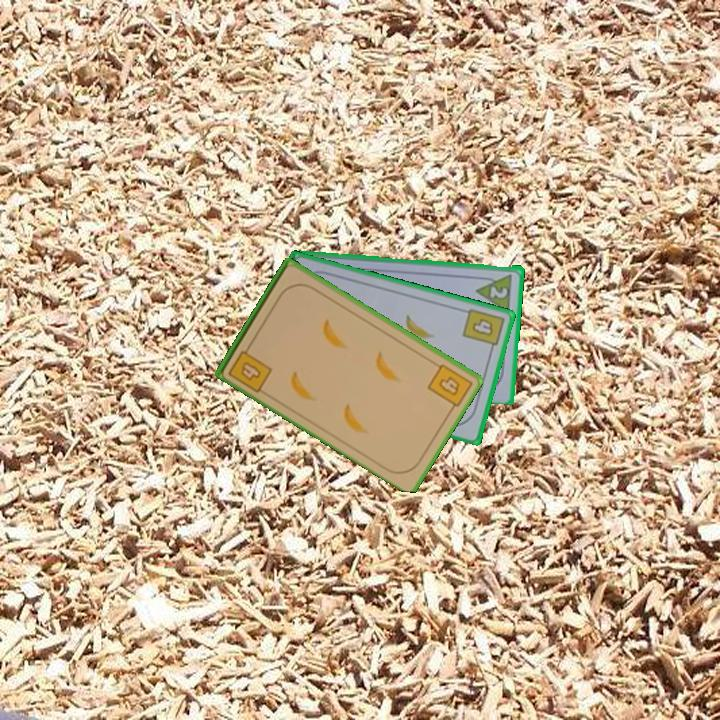2p: (473, 270, 515, 313)
4b: (424, 360, 475, 415), (224, 340, 275, 395), (459, 305, 507, 355)
